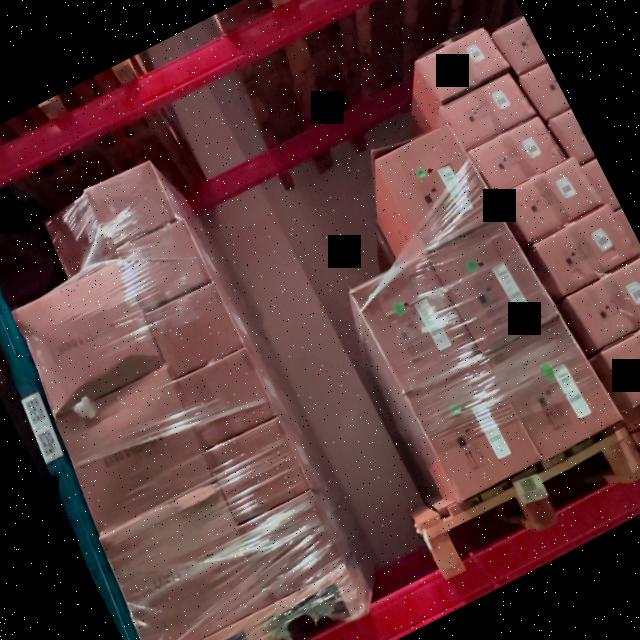box: (105, 488, 270, 640), (58, 369, 214, 529), (11, 260, 159, 408), (408, 359, 542, 504), (354, 255, 478, 395), (433, 220, 552, 350), (496, 323, 612, 452), (381, 122, 498, 248), (174, 350, 274, 448), (241, 499, 339, 592), (212, 424, 308, 516), (148, 288, 240, 376), (86, 160, 176, 247), (119, 223, 208, 308)
